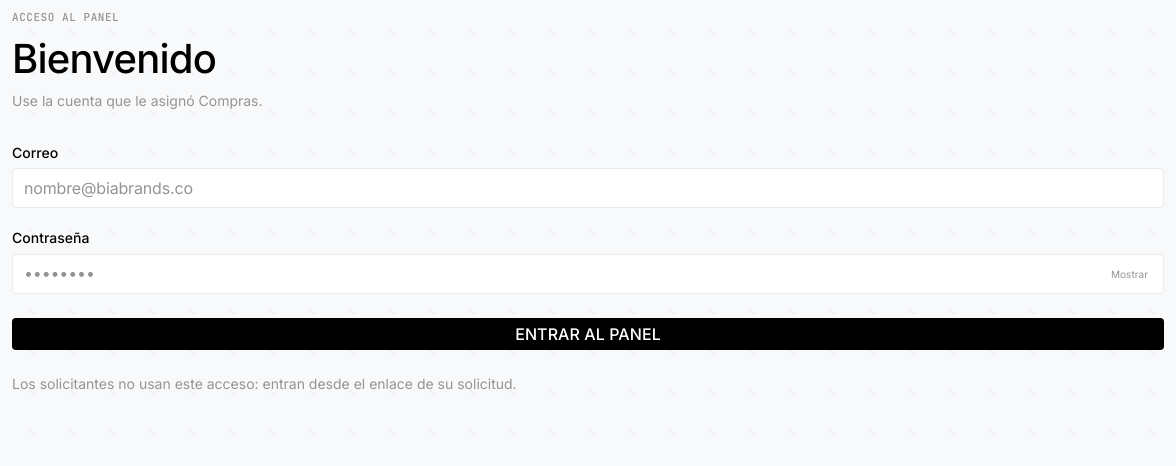
Test: Login único del equipo › un solicitante NO entra: se cierra la sesión y se explica
The width and height of the screenshot is (1176, 466).
Type "solicitante@biabrands.co" into the field labelled "Correo" at (588, 188), box [24,178,1152,199]
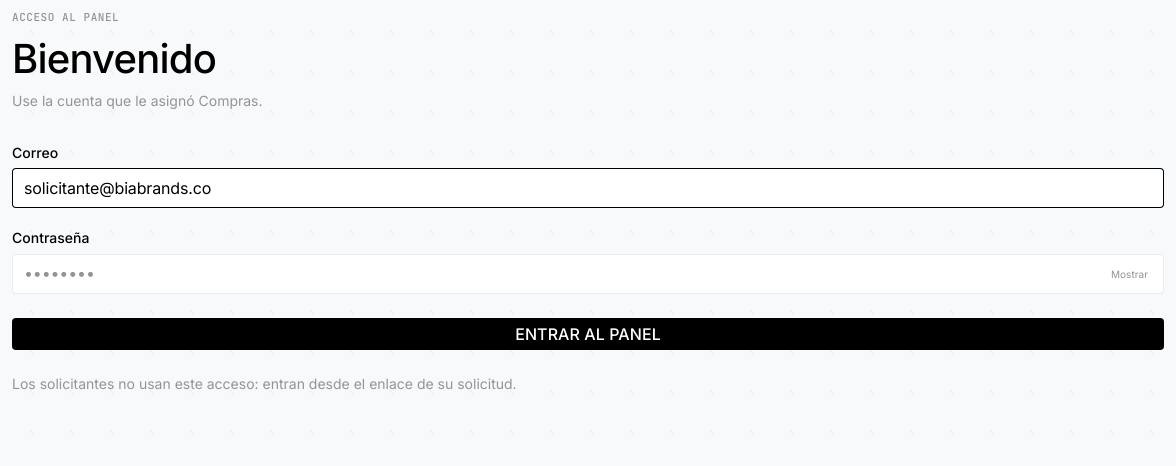
Type "Secreta2026!" into the password field labelled "Contraseña" at (561, 274), box [24,263,1099,284]
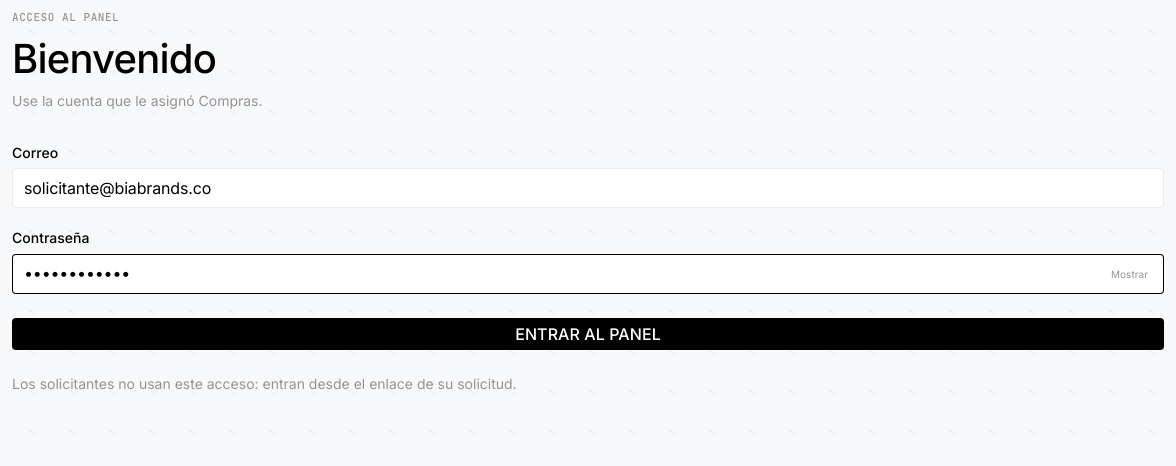
Click the button "Entrar al panel" at (588, 334), box [12,318,1164,350]
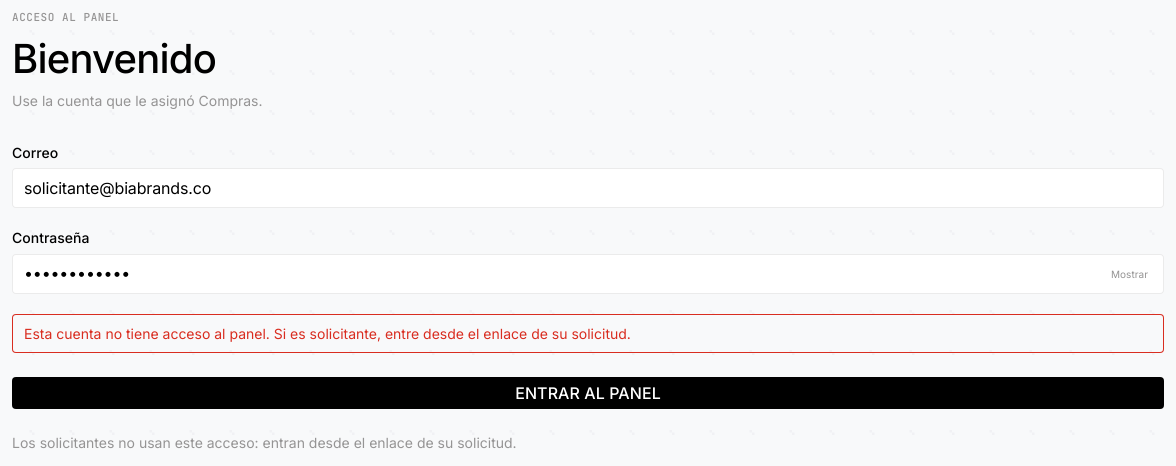
Result: the text "Esta cuenta no tiene acceso al panel. Si es solicitante" is shown at [24,325,631,342]
